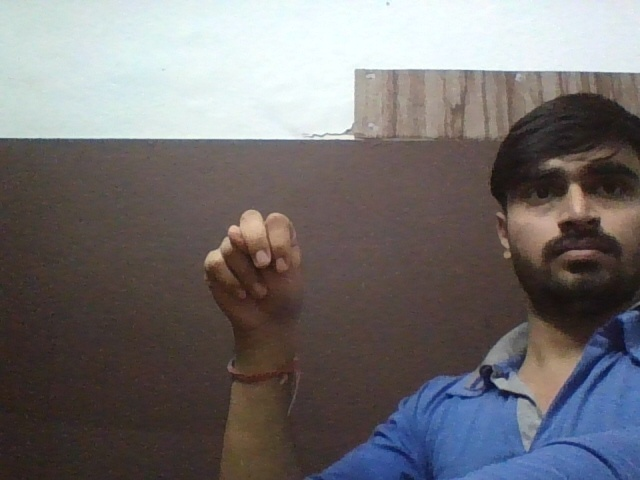N: (169, 205, 332, 337)
